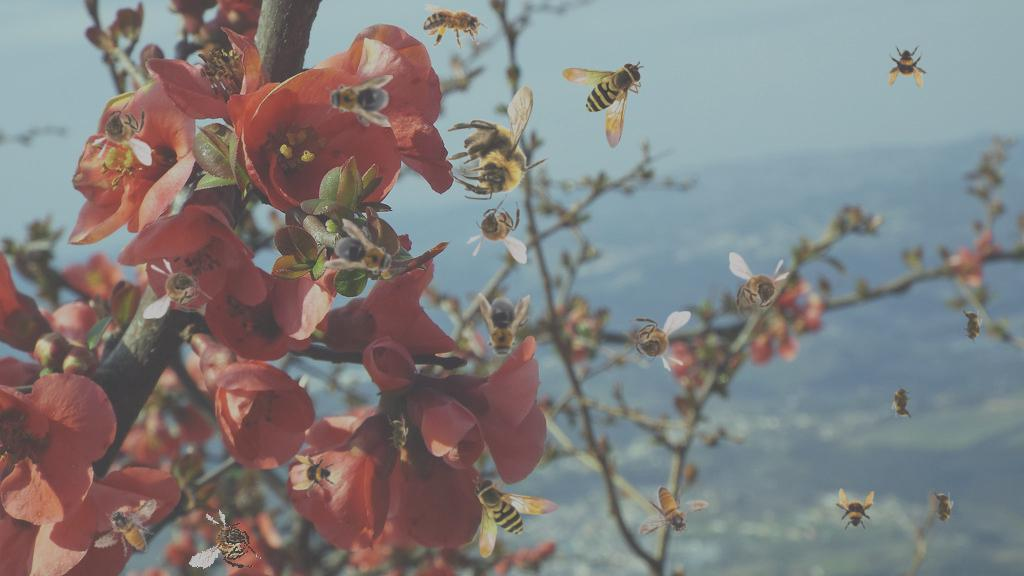Bee: (445, 85, 552, 200), (472, 476, 560, 558), (562, 61, 644, 149), (323, 216, 405, 290), (188, 505, 269, 576), (86, 497, 168, 564), (143, 258, 213, 319), (729, 252, 790, 322), (621, 311, 691, 372), (466, 194, 527, 264), (91, 96, 152, 166), (638, 486, 709, 536), (325, 75, 393, 127), (478, 293, 530, 361), (423, 4, 489, 49), (886, 45, 930, 89), (832, 488, 876, 532), (292, 453, 336, 497), (932, 488, 954, 528), (387, 415, 409, 455), (961, 306, 983, 346), (891, 382, 913, 422)
